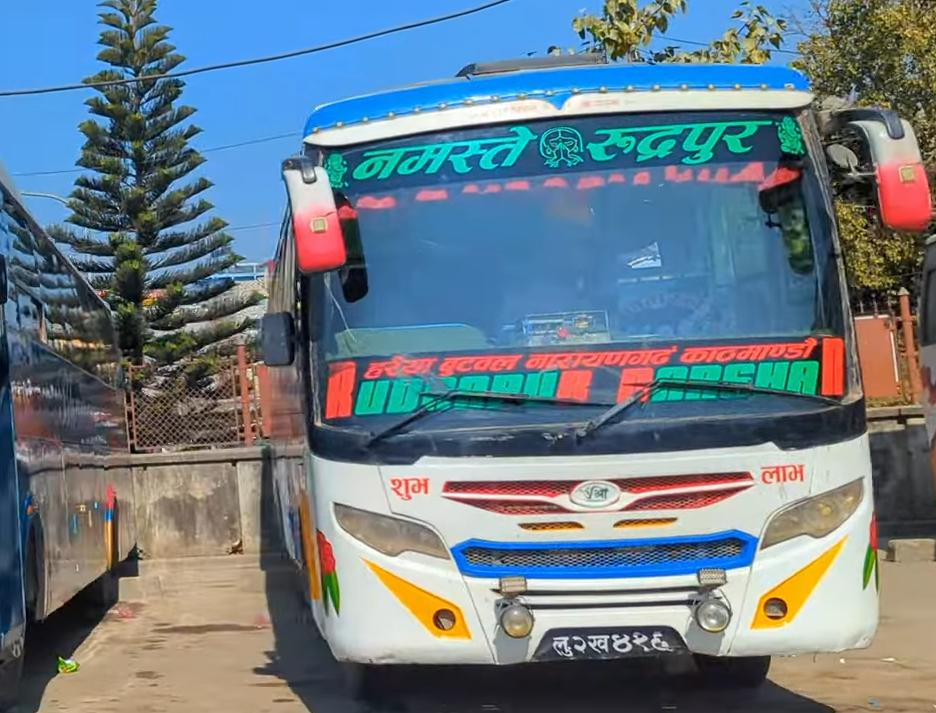bus: (249, 40, 935, 713)
